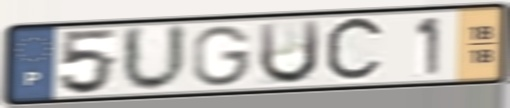1: (412, 14, 442, 79)
5: (57, 27, 122, 96)
C: (322, 13, 389, 87)
G: (190, 23, 256, 88)
U: (120, 22, 191, 95), (256, 17, 324, 87)
